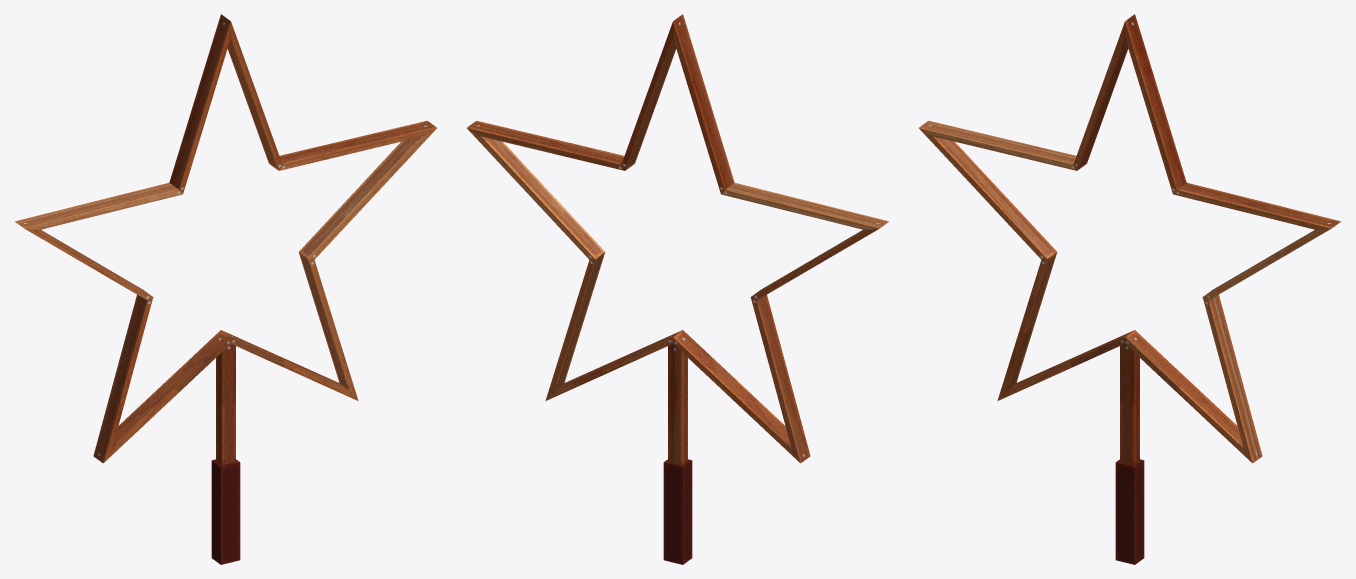
Rendered from starLeg.glb.
3 renders of one model, left to right at view 1: azimuth 30°, elevation 25°; view 2: azimuth 150°, elevation 25°; view 3: azimuth 330°, elevation 25°, orthographic.
Parts seen in each view (by area): view 1: Khung_ngoi_sao.001; view 2: Khung_ngoi_sao.001; view 3: Khung_ngoi_sao.001.
Part boxes in pixels (bbox=[...]): Khung_ngoi_sao.001: bbox=[15, 14, 436, 564]; Khung_ngoi_sao.001: bbox=[467, 14, 888, 564]; Khung_ngoi_sao.001: bbox=[919, 14, 1340, 564].
Size of the model in its own units: 3.53 by 4.42 by 0.1479.
Materials: 1 (1 with a texture image).
